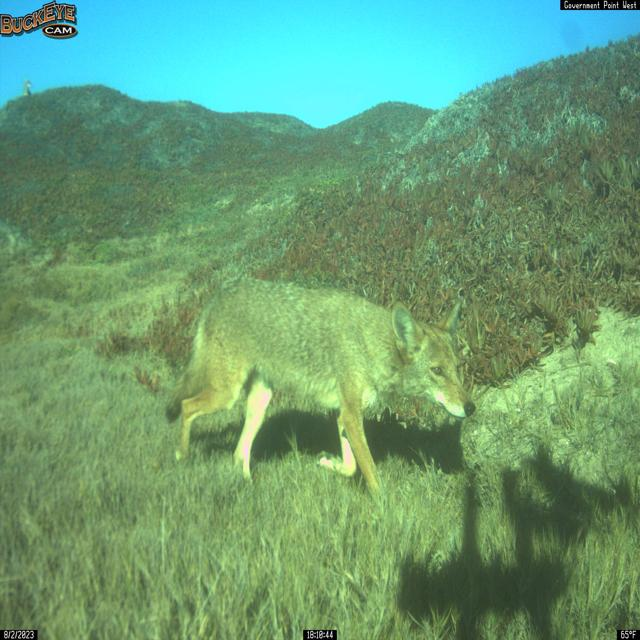coyote: (164, 275, 477, 500)
